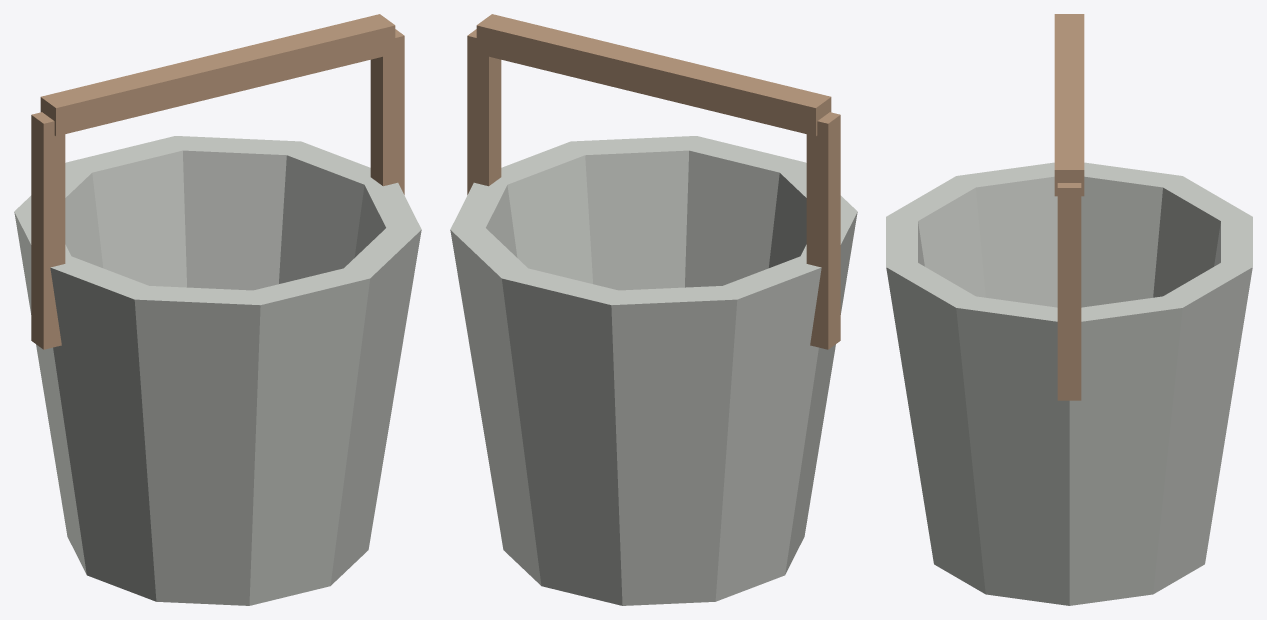
File: crafted-bucket-0.glb
3 views of the same model, side by side, from view 1: azimuth 30°, elevation 25°; view 2: azimuth 150°, elevation 25°; view 3: azimuth 270°, elevation 25° (orthographic). The views are drawn at different scales.
Visible parts, largest first — view 1: bucket, handle, handle-side, handle-side-1; view 2: bucket, handle, handle-side, handle-side-1; view 3: bucket, handle-side-1, handle.
Boxes of the visible parts, x1,y1,x2,y2 form: bucket: (14, 136, 421, 605); handle: (40, 14, 395, 136); handle-side: (31, 112, 65, 349); handle-side-1: (370, 29, 404, 194); bucket: (450, 136, 857, 605); handle: (476, 14, 831, 136); handle-side: (806, 112, 840, 349); handle-side-1: (467, 29, 501, 194); bucket: (886, 162, 1252, 605); handle-side-1: (1057, 183, 1081, 400); handle: (1054, 14, 1084, 196).
Bounding box in the file's own units: 0.468 × 0.5975 × 0.4375.
